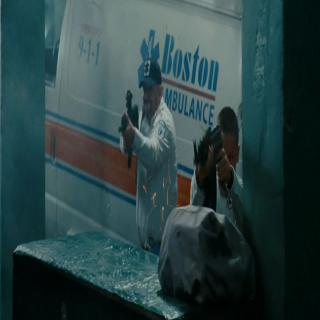gun: (192, 124, 229, 216), (118, 84, 139, 170)
